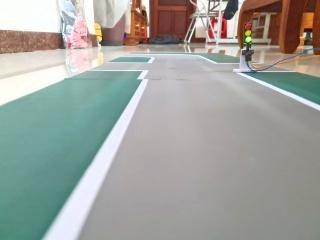green: (237, 19, 259, 58)
